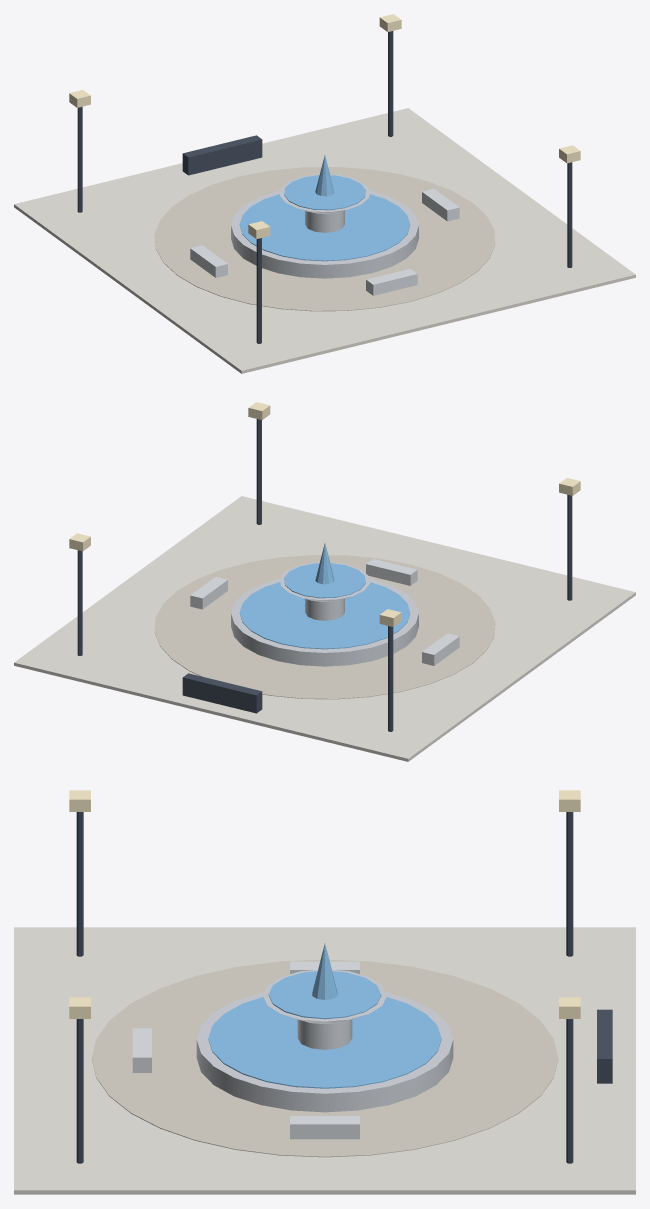
File: plaza.glb
The picture shows the model from 3 angles, top to bottom: view 1: azimuth 30°, elevation 25°; view 2: azimuth 150°, elevation 25°; view 3: azimuth 270°, elevation 25°; orthographic projection. The views are drawn at different scales.
Parts seen in each view (by area): view 1: Body; view 2: Body; view 3: Body.
Boxes of the visible parts, left/top/right/bottom form: Body: left=14, top=14, right=635, bottom=373; Body: left=14, top=402, right=635, bottom=761; Body: left=14, top=790, right=635, bottom=1194.
Bounding box in the file's own units: 16 × 4.67 × 16.
